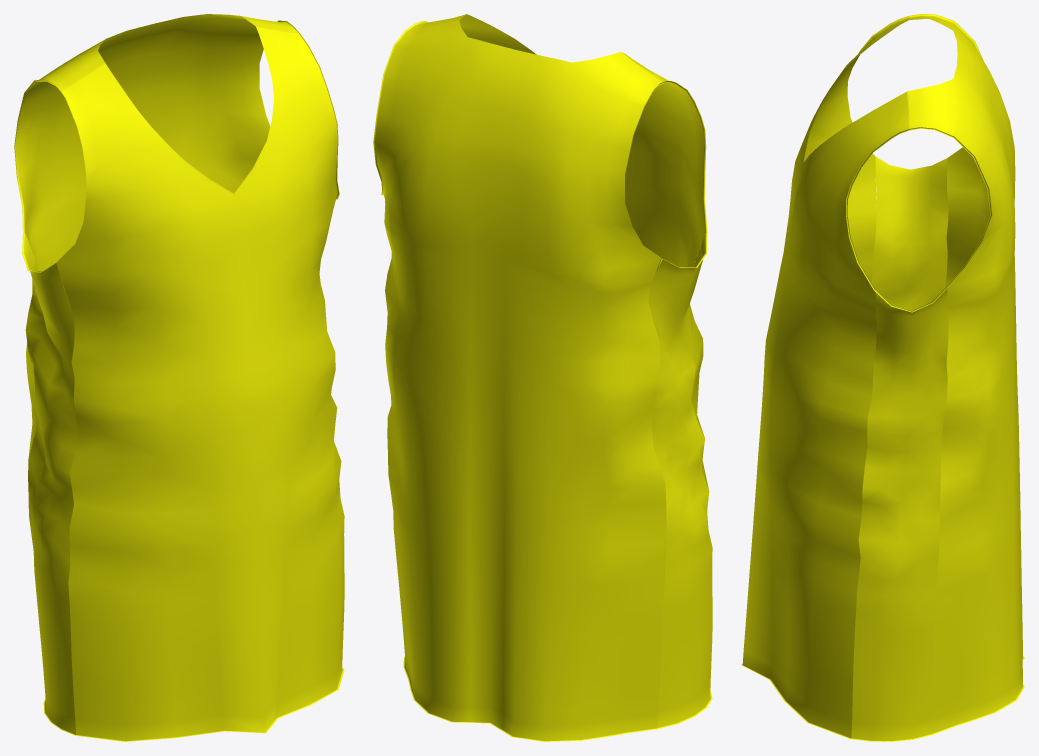
File: 4B3VTA.glb
3 views of the same model, side by side, from view 1: azimuth 30°, elevation 25°; view 2: azimuth 150°, elevation 25°; view 3: azimuth 270°, elevation 25° (orthographic). The views are drawn at different scales.
Parts seen in each view (by area): view 1: 4B3VTA; view 2: 4B3VTA; view 3: 4B3VTA.
Boxes of the visible parts, x1,y1,x2,y2 form: 4B3VTA: [14, 14, 344, 741]; 4B3VTA: [373, 14, 712, 741]; 4B3VTA: [741, 14, 1024, 741].
Size of what is drawn, in the model's own units: 0.4602 by 0.9367 by 0.3863.
